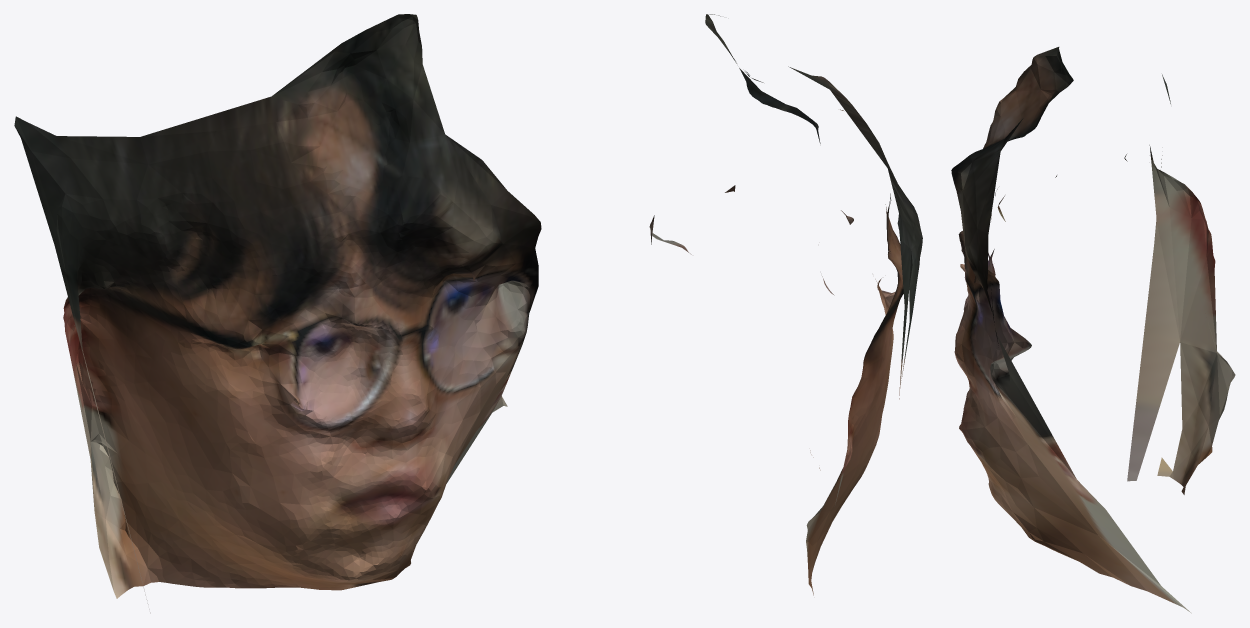
Rendered from asset.glb.
3 renders of one model, left to right at view 1: azimuth 30°, elevation 25°; view 2: azimuth 150°, elevation 25°; view 3: azimuth 270°, elevation 25°, orthographic. The views are drawn at different scales.
Parts seen in each view (by area): view 1: mesh; view 2: mesh; view 3: mesh.
Part boxes in pixels (bbox=[...]): mesh: bbox=[14, 14, 541, 613]; mesh: bbox=[649, 14, 922, 595]; mesh: bbox=[951, 47, 1235, 613].
Size of the model in its own units: 0.1788 by 0.2346 by 0.1166.
1 material, 1 textured.
